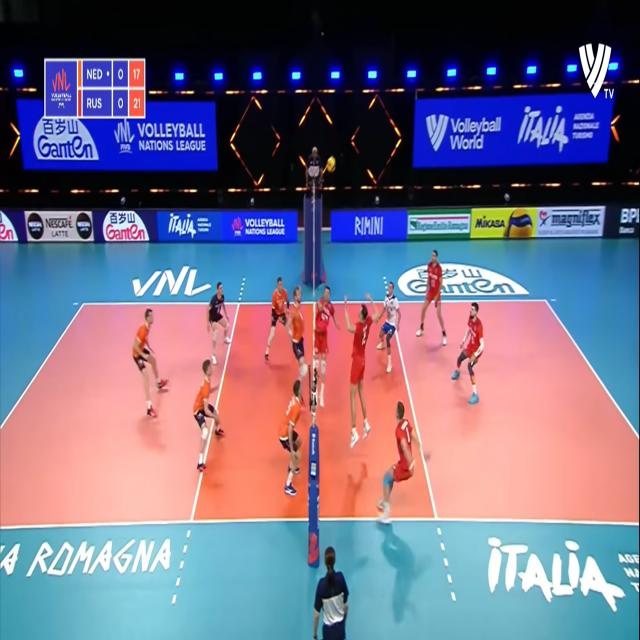player: (344, 291, 378, 456), (130, 309, 170, 428), (384, 399, 420, 518), (192, 359, 228, 474), (262, 272, 300, 366), (279, 377, 306, 496), (458, 296, 486, 408), (419, 241, 445, 355), (378, 277, 404, 380), (206, 279, 235, 369), (318, 273, 337, 407), (290, 283, 312, 386)
